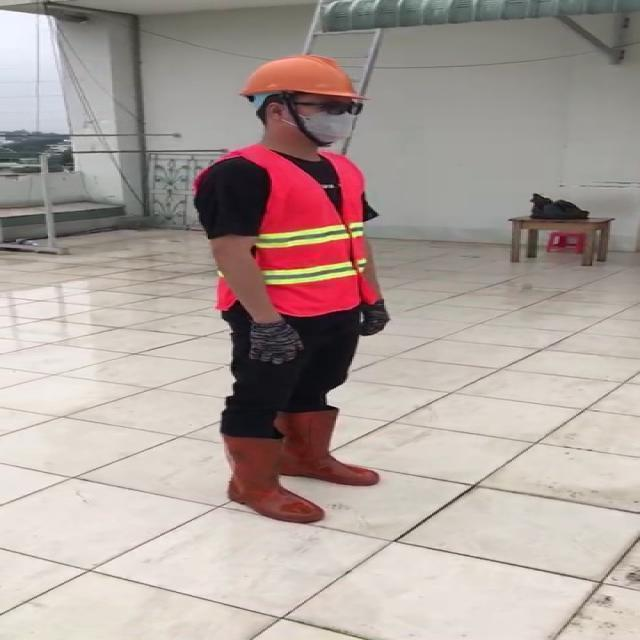gloves: (245, 303, 301, 368), (357, 286, 396, 341)
goggles: (282, 89, 366, 119)
helmet: (232, 53, 370, 100)
safety_vest: (192, 148, 380, 319)
